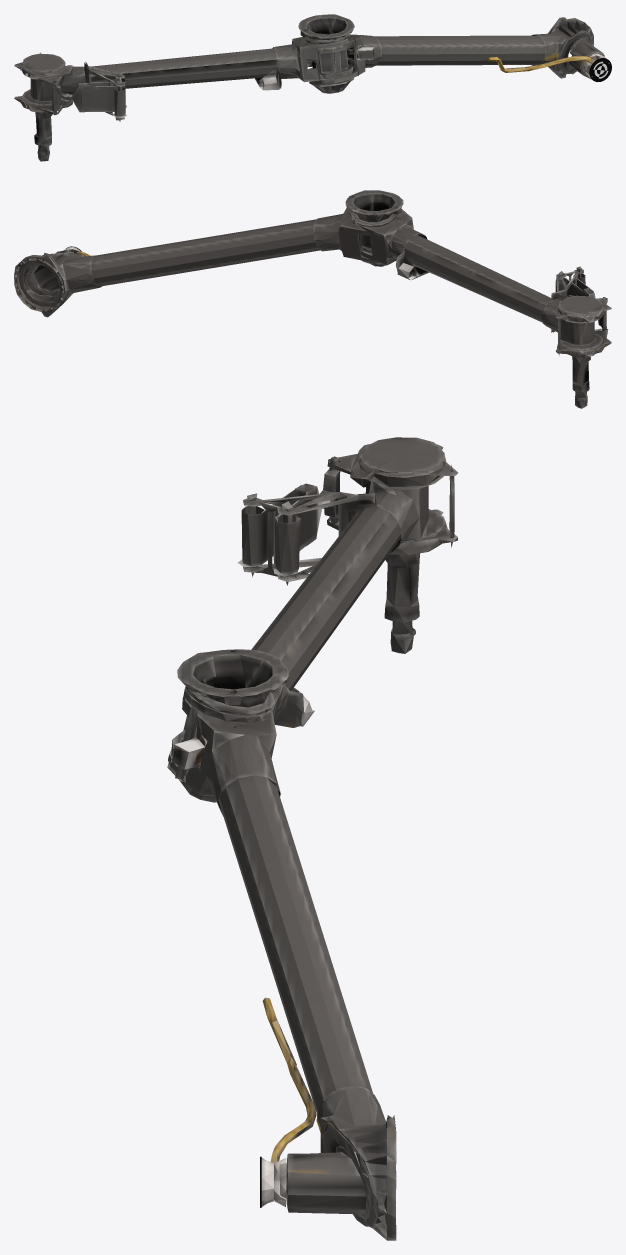
File: Right_Rocker.gltf
The picture shows the model from 3 angles, top to bottom: view 1: azimuth 30°, elevation 25°; view 2: azimuth 150°, elevation 25°; view 3: azimuth 270°, elevation 25°; orthographic projection. The views are drawn at different scales.
Parts seen in each view (by area): view 1: Mesh_0; view 2: Mesh_0; view 3: Mesh_0.
Boxes of the visible parts, x1,y1,x2,y2 form: Mesh_0: (14,14,611,161); Mesh_0: (14,190,611,408); Mesh_0: (167,437,458,1240).
Size of the model in its own units: 1.78 by 0.4439 by 0.3956.
Materials: 1 (1 with a texture image).
